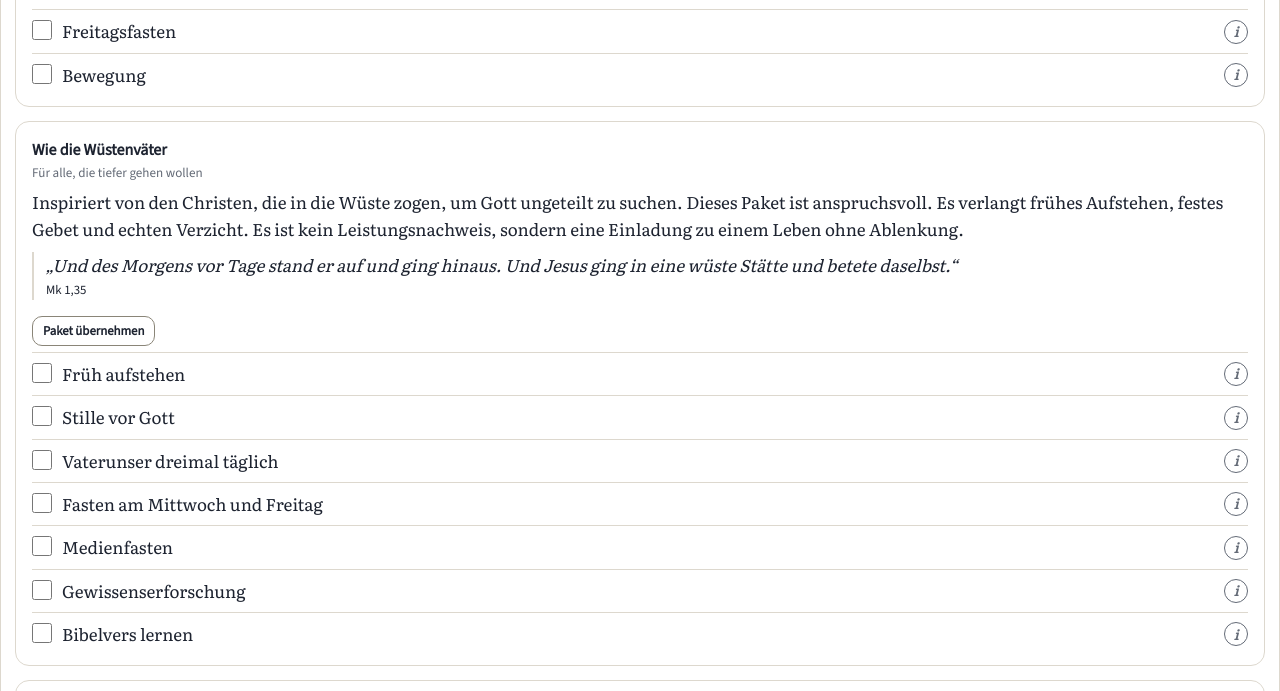
Test: the habits of the Wüstenzeit under "Heute" › combines with another package; a habit in both counts once
(page scrolled)
Click the button "Paket übernehmen": point(94, 331) [32,316,156,346]
(page scrolled)
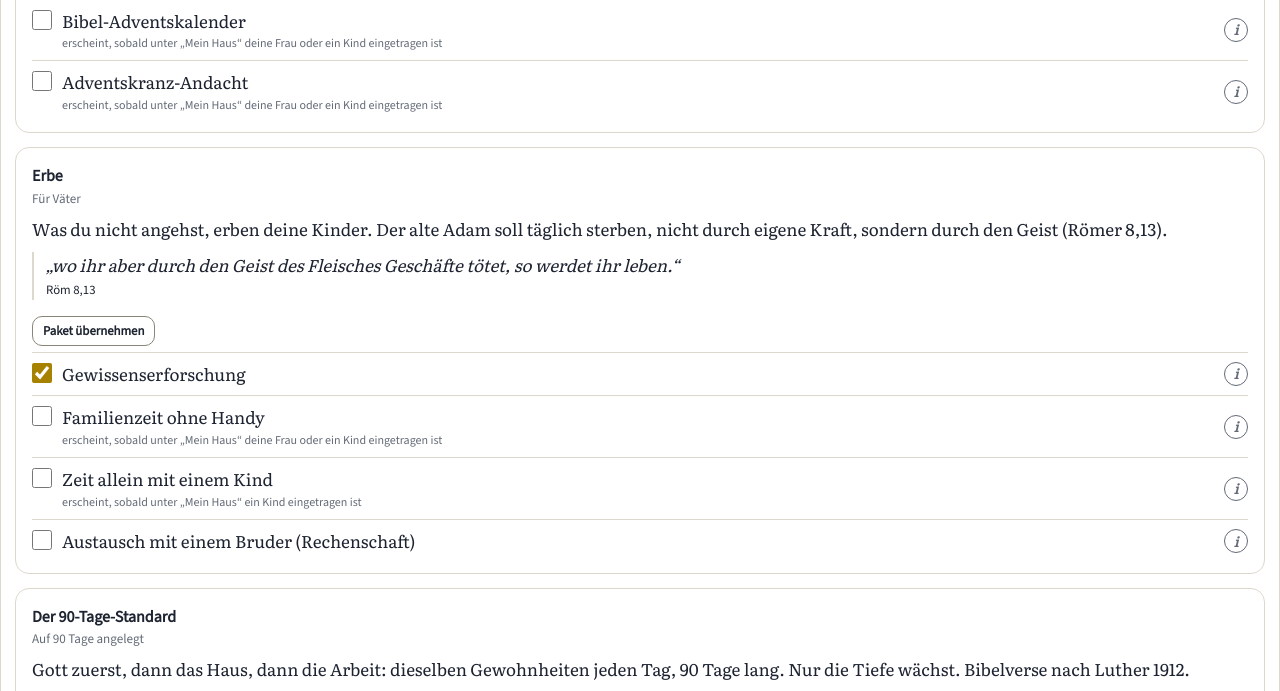
Expected: the element "Erbe" shows "Was du nicht angehst, erben deine Kinder.", [32,216,1168,240]
Click the button "Paket übernehmen": point(94, 331) [32,316,156,346]
(page scrolled)
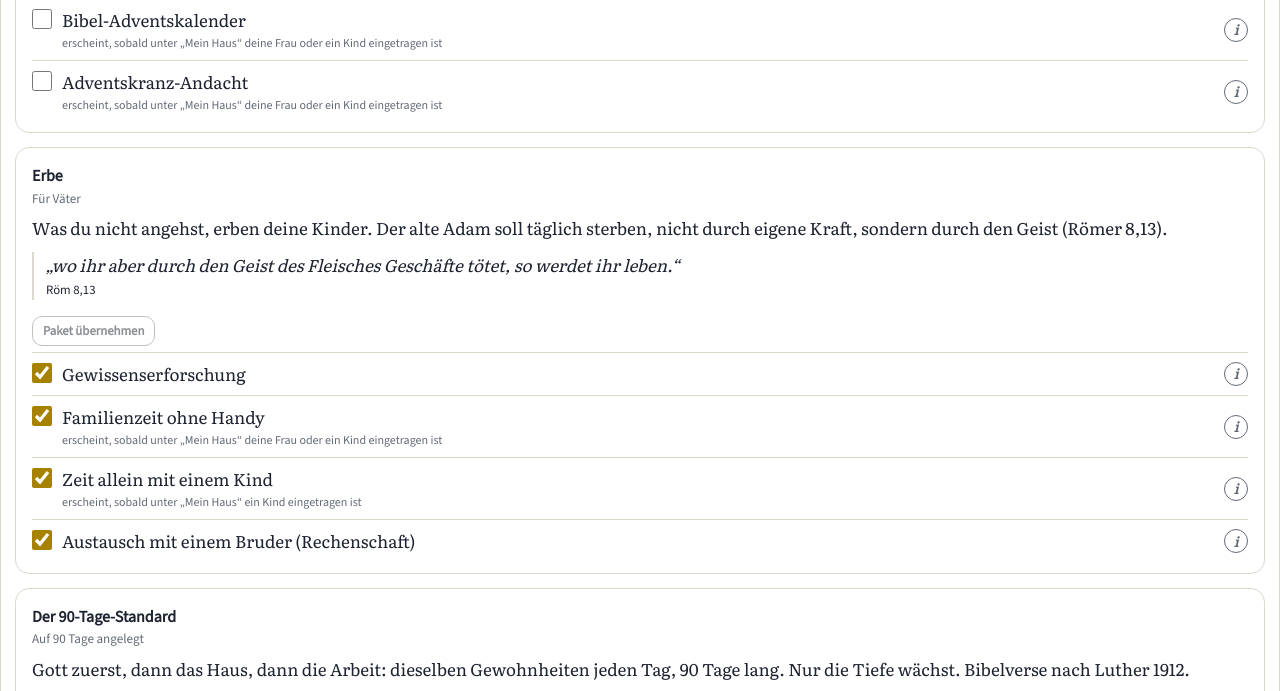
Result: the button "Paket übernehmen" is disabled at [32,316,156,346]
